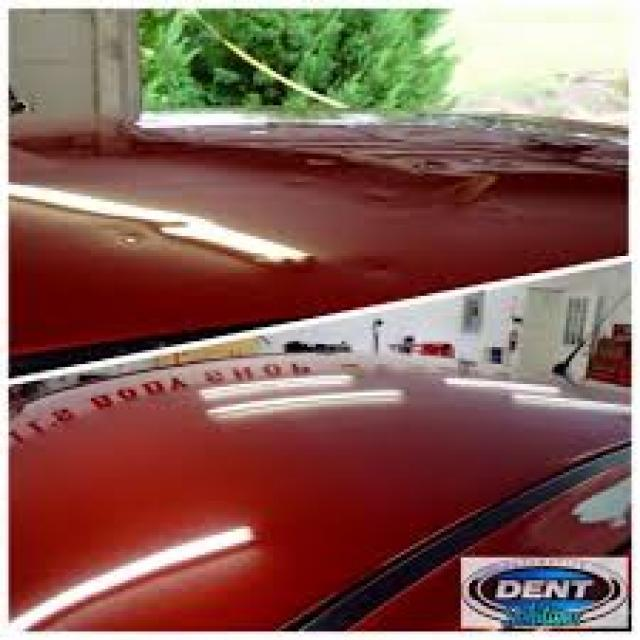dent-or-scratch: (99, 223, 164, 254)
